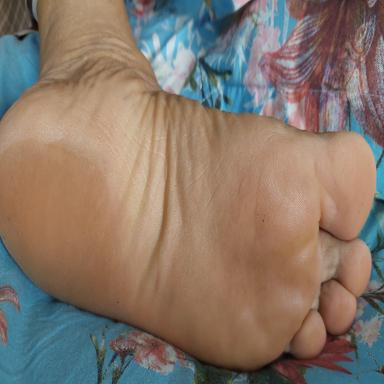normal skin: (0, 0, 376, 369)
